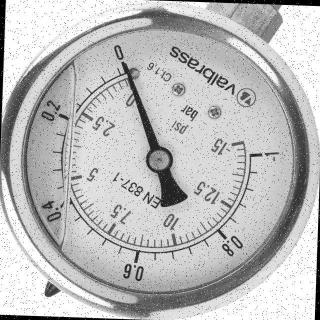gauge: (0, 0, 320, 320), (113, 61, 151, 108), (209, 126, 257, 162), (144, 145, 172, 174), (119, 58, 130, 70)
